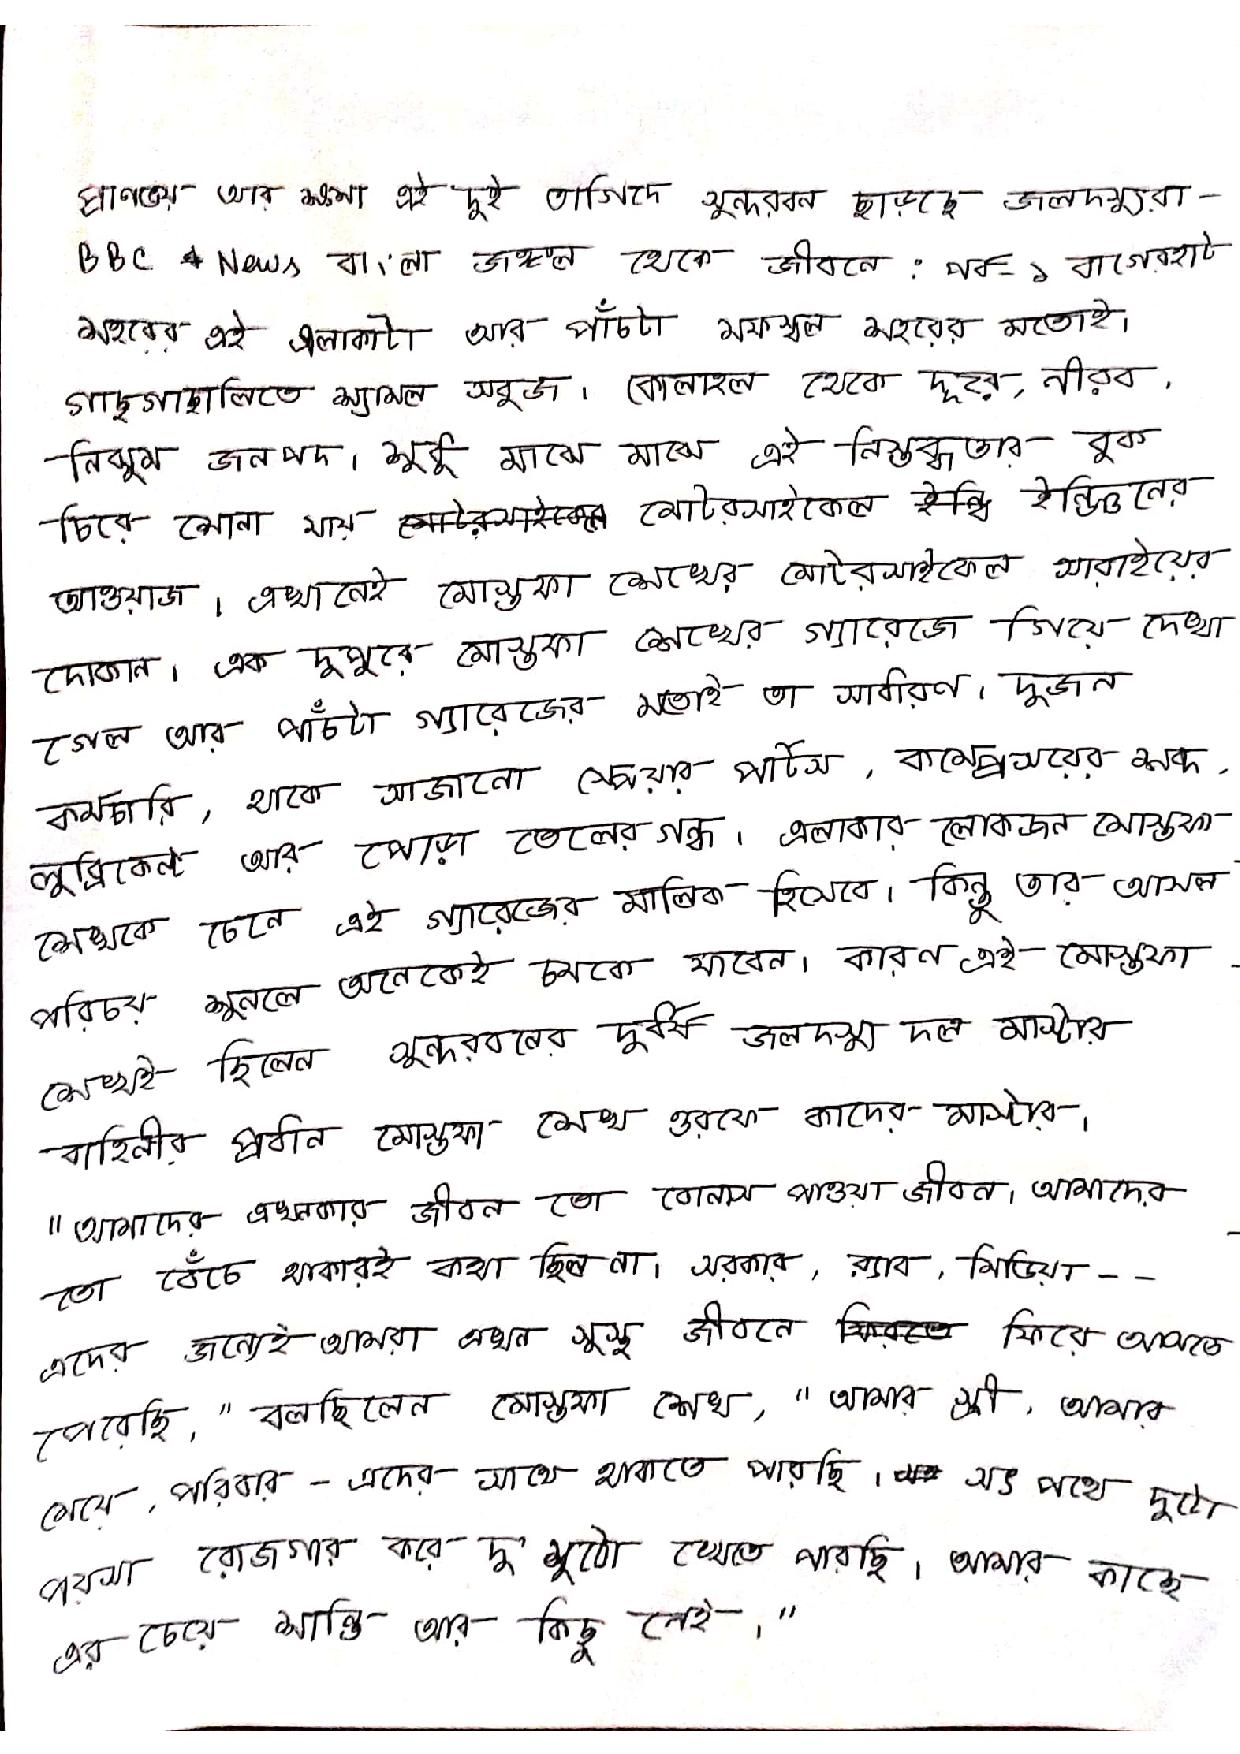line: (40, 1001, 1138, 1119), (38, 863, 1223, 969), (31, 934, 1215, 1037), (34, 663, 1133, 772), (30, 807, 1231, 905), (46, 737, 1206, 833), (35, 600, 1235, 692), (38, 1445, 1235, 1537), (46, 1157, 1189, 1252), (32, 1298, 1228, 1388), (38, 1520, 1215, 1610), (38, 1380, 1169, 1471), (46, 533, 1231, 619), (42, 470, 1208, 546), (40, 1088, 1090, 1172), (39, 1239, 1157, 1317), (68, 352, 1151, 423), (46, 425, 1165, 488), (72, 229, 1235, 289), (50, 1596, 803, 1682), (72, 297, 1133, 357), (75, 174, 1219, 224), (123, 764, 1229, 804)
